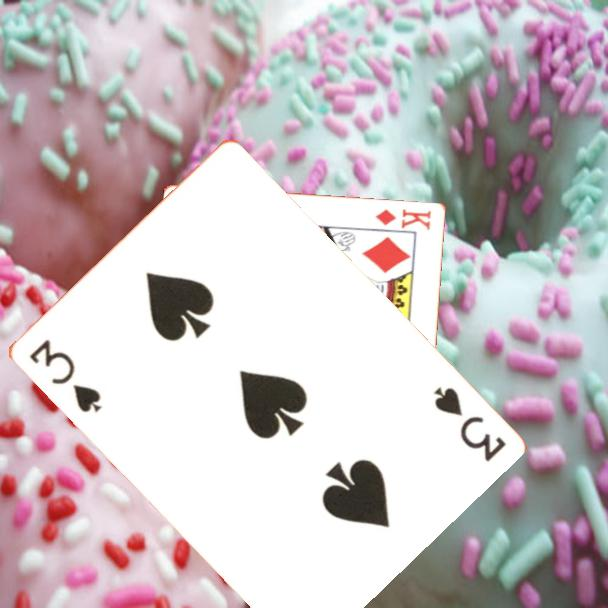d13: (373, 205, 434, 233)
s03: (429, 383, 509, 465), (25, 335, 105, 416)
